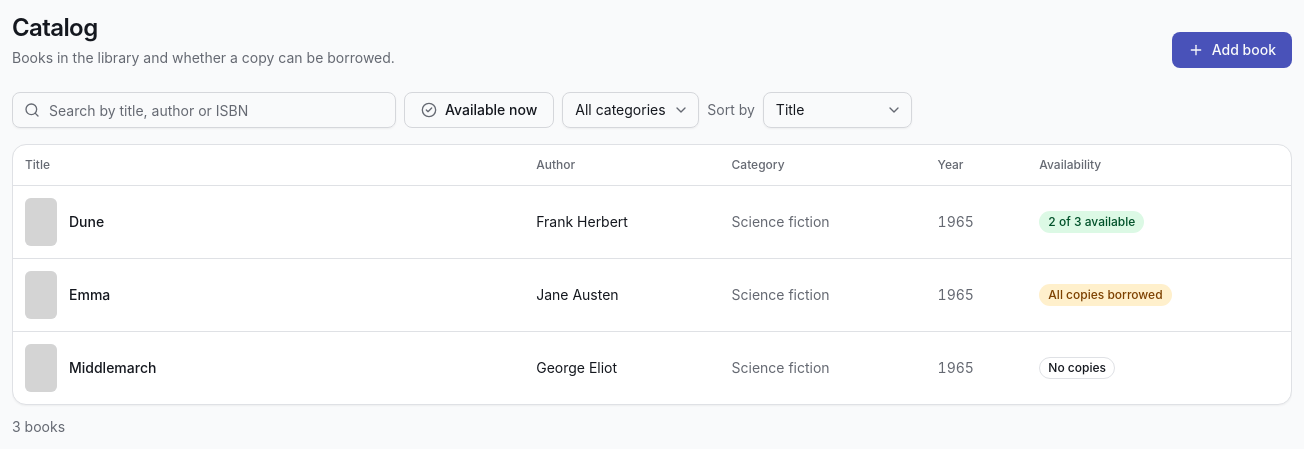
CatalogPage › searches after typing stops and sends the search as q
Expected: the link "Emma" is shown, [69,284,110,304]
Type "herb" into the search field named "Search the catalog" at (204, 110), box [12,92,396,128]
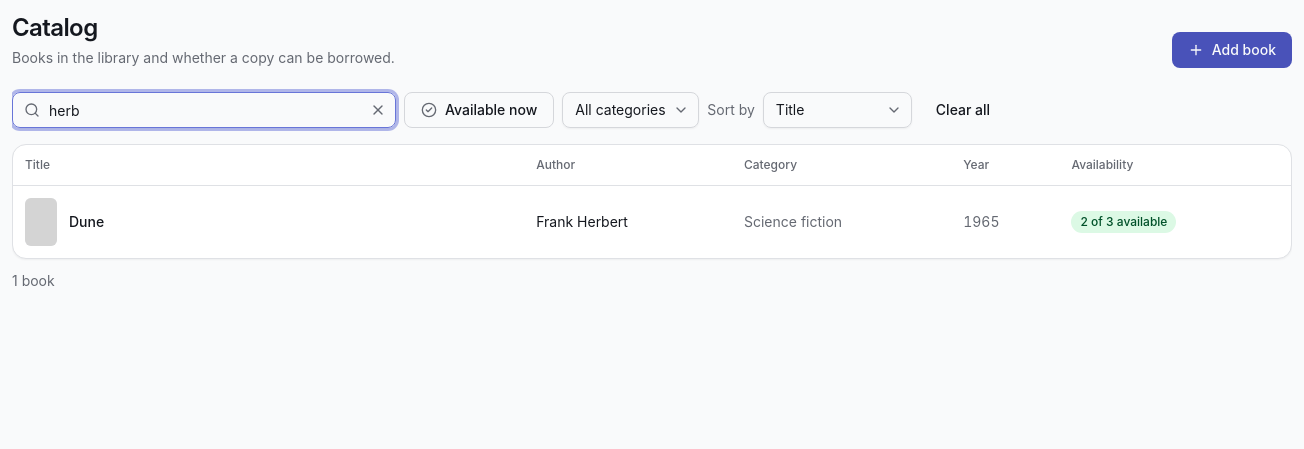
Now the text "1 book" is shown, box [12,272,55,288]
Now the link "Emma" is gone
